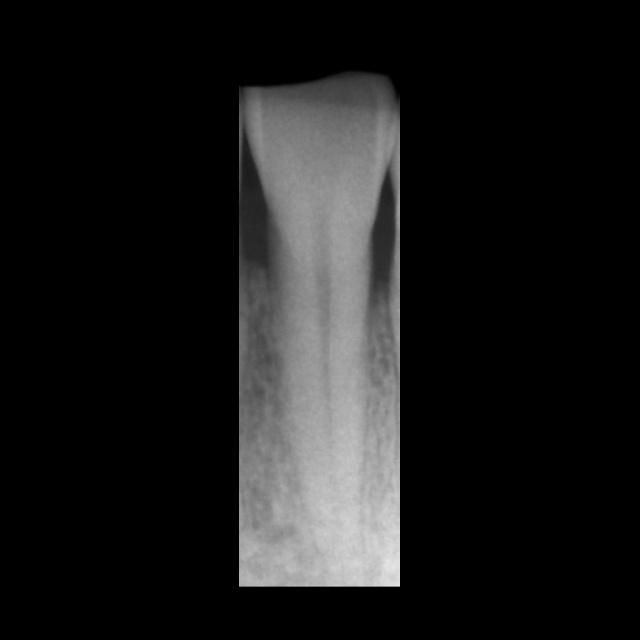tooth: (247, 73, 402, 577)
